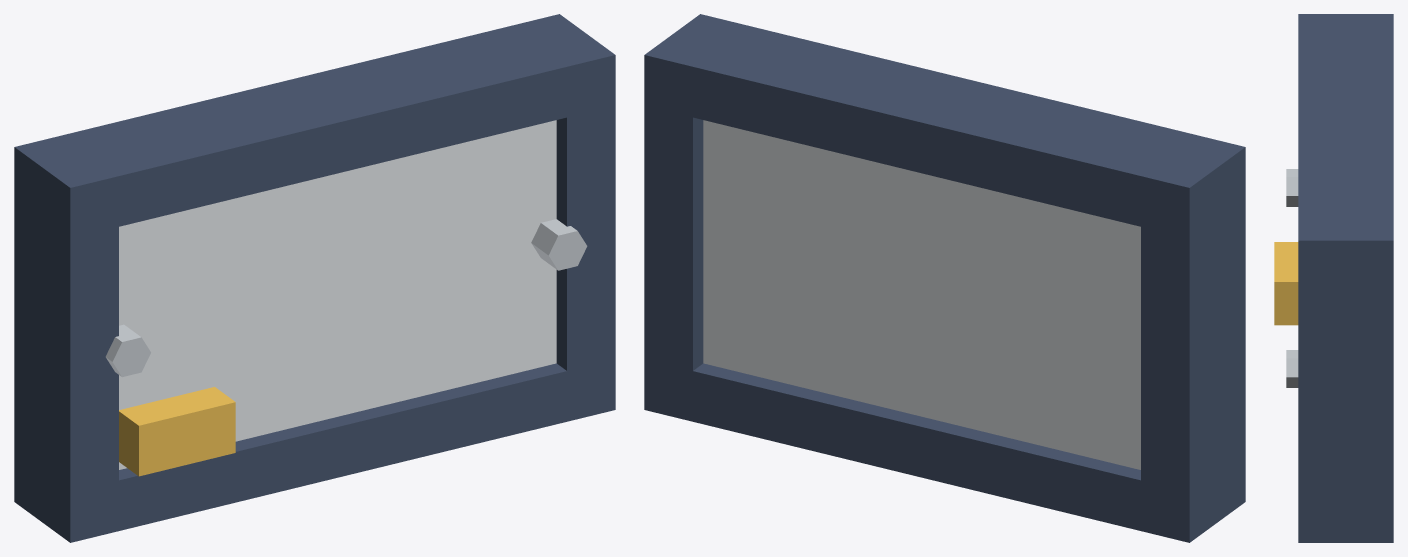
File: equipment_plate.glb
3 renders of one model, left to right at view 1: azimuth 30°, elevation 25°; view 2: azimuth 150°, elevation 25°; view 3: azimuth 270°, elevation 25°, orthographic. The views are drawn at different scales.
Parts seen in each view (by area): view 1: DL017_EquipmentPlate_graphite_navy, DL017_EquipmentPlate_hull_offwhite, DL017_EquipmentPlate_amber_accent, DL017_EquipmentPlate_titanium; view 2: DL017_EquipmentPlate_graphite_navy, DL017_EquipmentPlate_hull_offwhite; view 3: DL017_EquipmentPlate_graphite_navy, DL017_EquipmentPlate_amber_accent, DL017_EquipmentPlate_titanium.
Boxes of the visible parts, left/top/right/bottom form: DL017_EquipmentPlate_graphite_navy: left=14, top=14, right=615, bottom=542; DL017_EquipmentPlate_hull_offwhite: left=119, top=120, right=556, bottom=469; DL017_EquipmentPlate_amber_accent: left=119, top=387, right=235, bottom=476; DL017_EquipmentPlate_titanium: left=105, top=219, right=587, bottom=377; DL017_EquipmentPlate_graphite_navy: left=644, top=14, right=1245, bottom=542; DL017_EquipmentPlate_hull_offwhite: left=703, top=120, right=1140, bottom=469; DL017_EquipmentPlate_graphite_navy: left=1298, top=14, right=1393, bottom=542; DL017_EquipmentPlate_amber_accent: left=1274, top=242, right=1298, bottom=325; DL017_EquipmentPlate_titanium: left=1286, top=169, right=1298, bottom=387.
Bounding box in the file's own units: 0.45 × 0.28 × 0.1.
